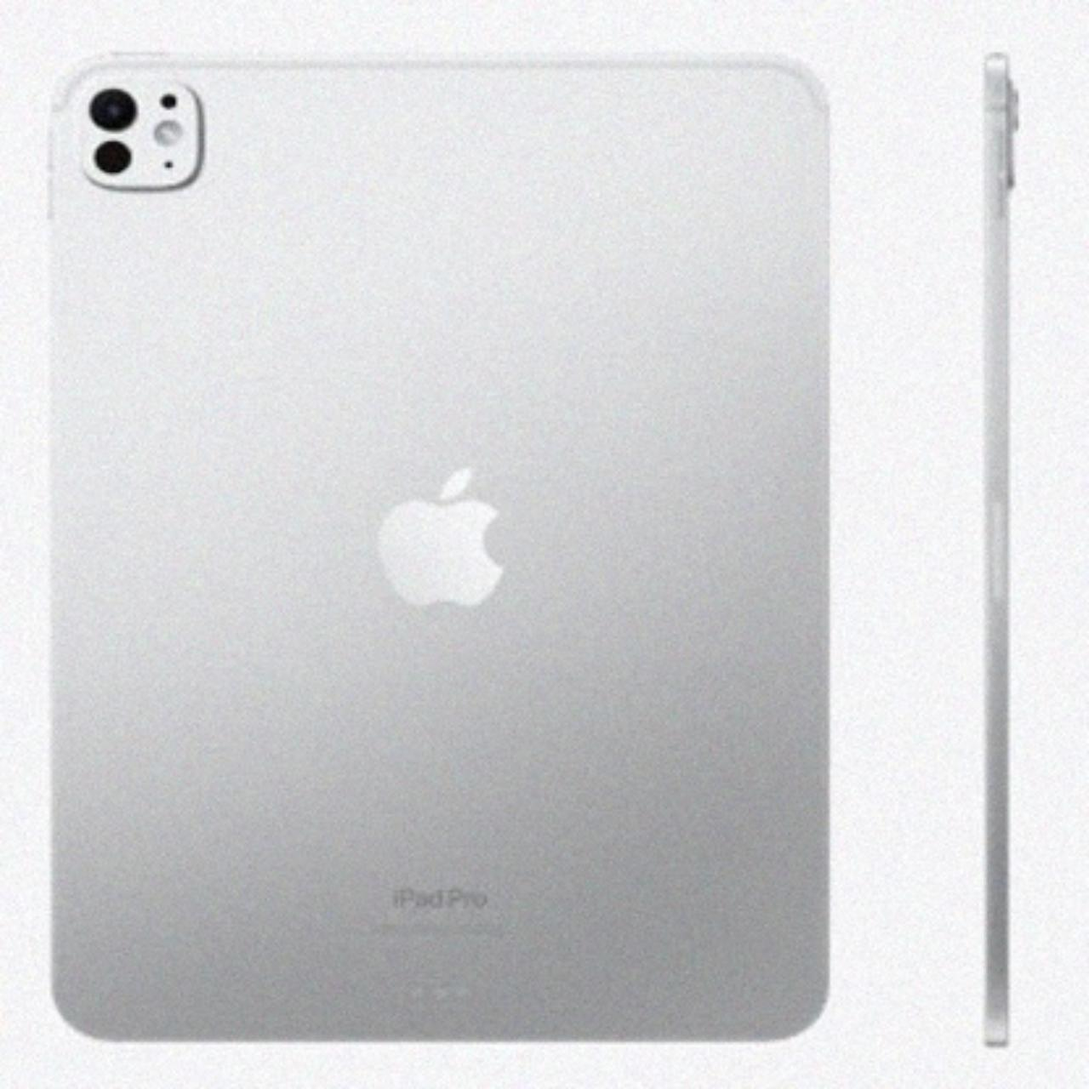Tablet_PC: (37, 40, 851, 1063)
